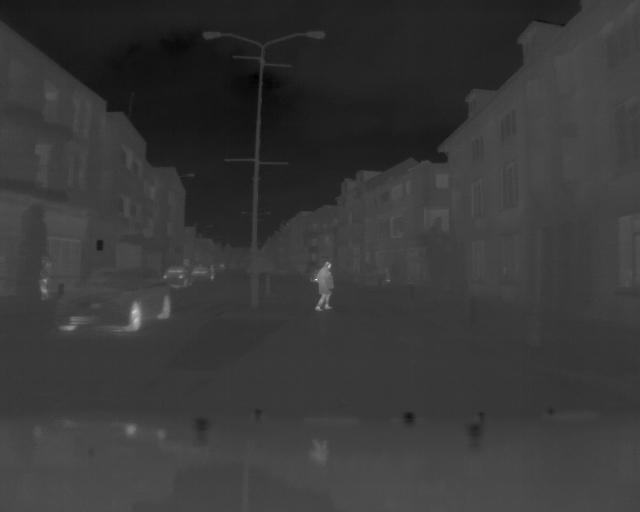car: (53, 267, 174, 335), (164, 261, 190, 288), (192, 263, 217, 282)
person: (309, 255, 337, 314), (35, 253, 53, 300)
